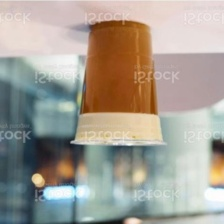glass: (65, 16, 181, 155)
